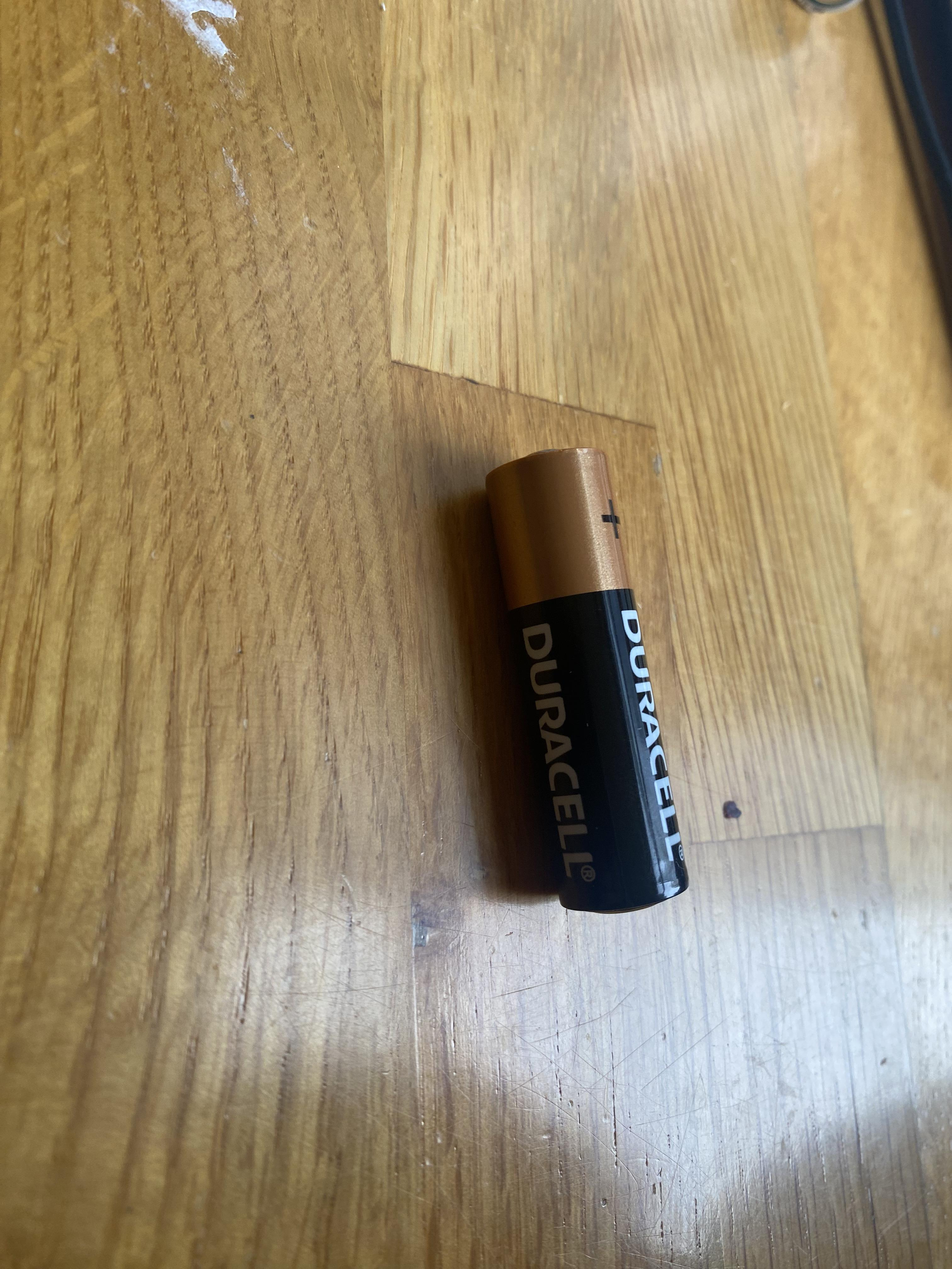AA: (483, 444, 689, 914)
